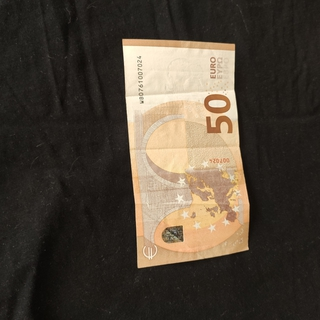50EUROBack: (121, 37, 251, 269)
